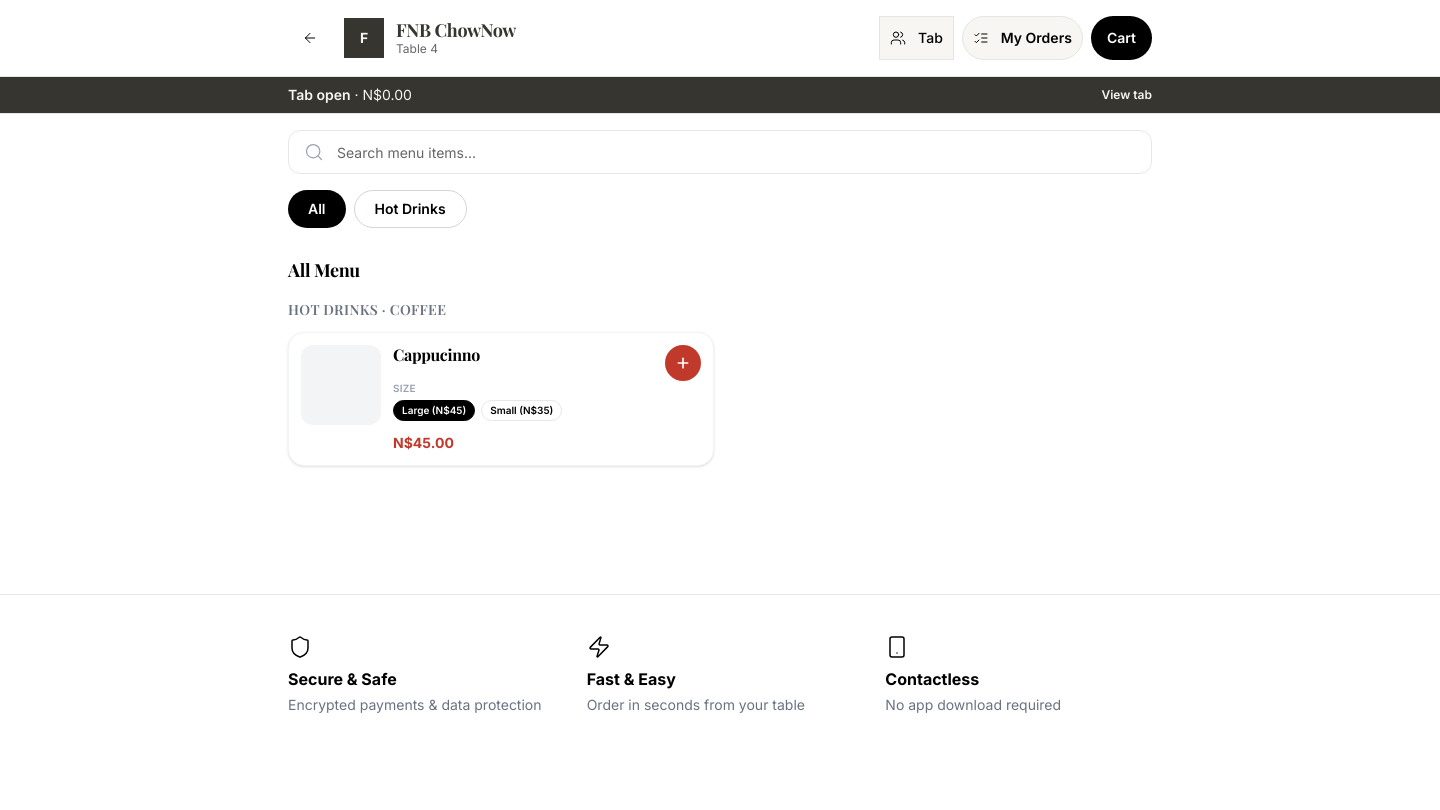
Test: a variant item keeps its variant through the popup › renders a chooser for the group instead of dropping it
Click the button named "Add Cappucinno to cart" at (683,363), box [665, 345, 701, 381]
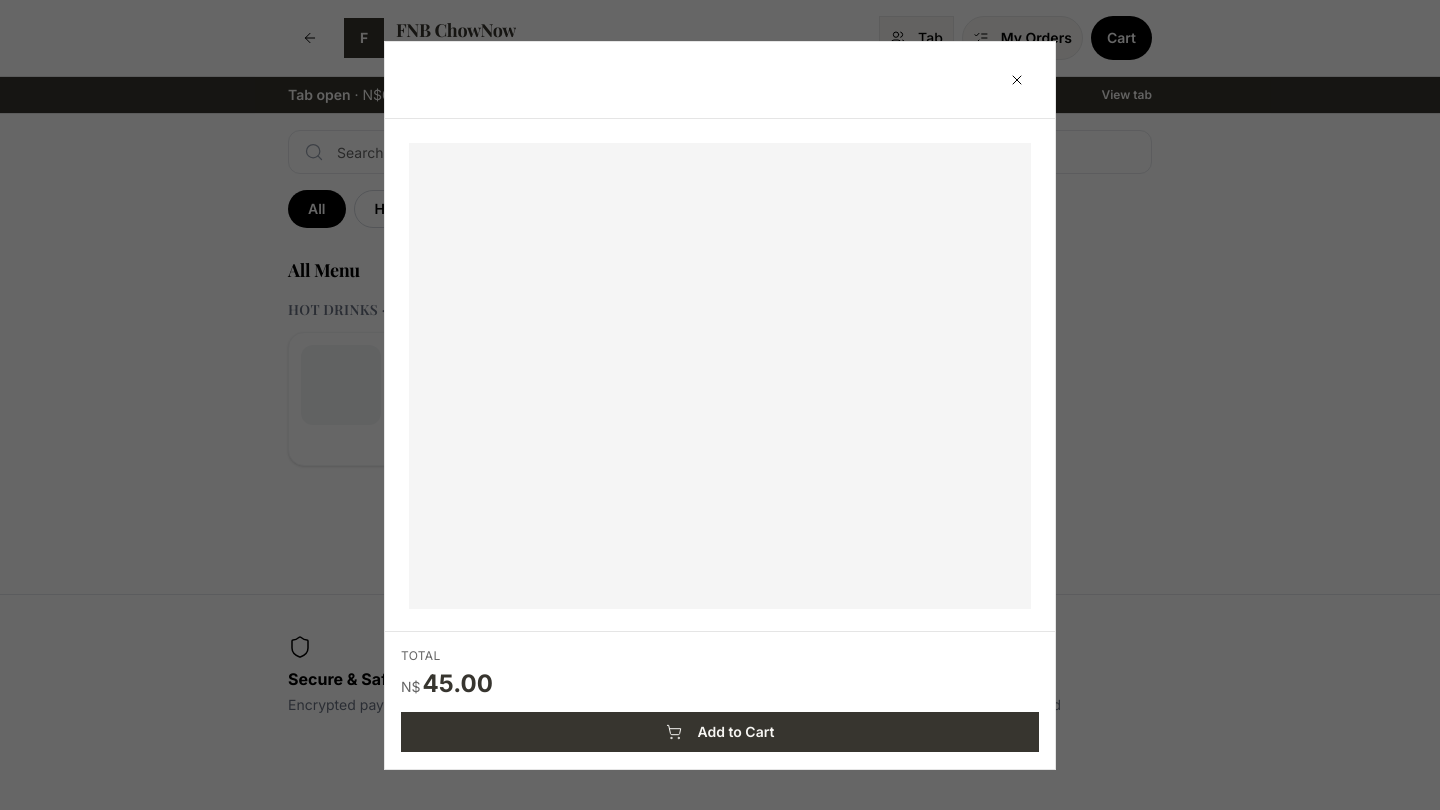
expect the radio button holds "Large": met, box [409, 743, 425, 759]
